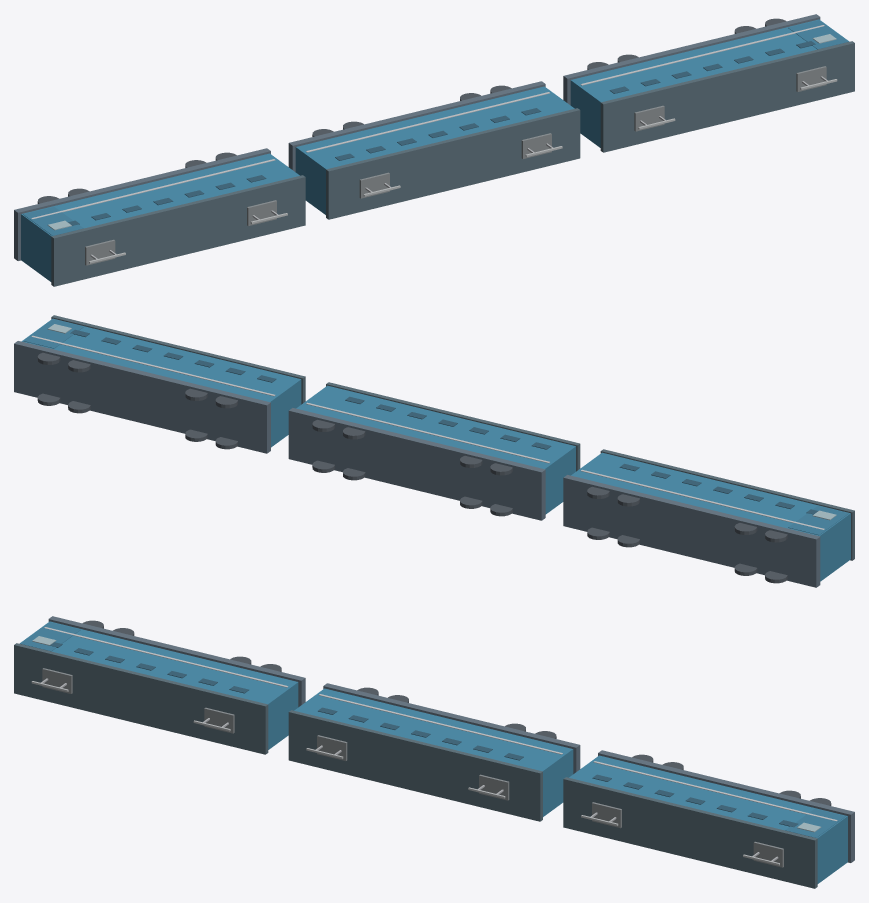
Rendered from 3es5k_exterior.glb.
The picture shows the model from 3 angles, top to bottom: view 1: azimuth 30°, elevation 25°; view 2: azimuth 150°, elevation 25°; view 3: azimuth 330°, elevation 25°; orthographic projection.
Parts seen in each view (by area): view 1: Секция 3 крыша, Секция 1 крыша, Секция 2 крыша, Секция 2 кузов, Секция 1 кузов, Секция 3 кузов, Секция 1 основание, Секция 3 основание, Секция 2 основание, кабина_1, кабина, полоса_3 (+7 smaller); view 2: Секция 1 основание, Секция 2 основание, Секция 3 основание, Секция 2 кузов, Секция 1 кузов, Секция 3 кузов, Секция 1 крыша, Секция 2 крыша, Секция 3 крыша, кабина_1, кабина, полоса_3 (+2 smaller); view 3: Секция 1 крыша, Секция 3 крыша, Секция 2 крыша, Секция 2 кузов, Секция 3 кузов, Секция 1 кузов, Секция 3 основание, Секция 1 основание, Секция 2 основание, кабина_1, кабина, полоса_3 (+7 smaller).
Boxes of the visible parts, left/top/right/bottom form: Секция 3 крыша: left=600, top=41, right=854, bottom=152; Секция 1 крыша: left=51, top=175, right=305, bottom=286; Секция 2 крыша: left=326, top=108, right=580, bottom=219; Секция 2 кузов: left=295, top=86, right=574, bottom=214; Секция 1 кузов: left=21, top=153, right=299, bottom=281; Секция 3 кузов: left=570, top=19, right=848, bottom=147; Секция 1 основание: left=14, top=148, right=270, bottom=260; Секция 3 основание: left=563, top=14, right=820, bottom=105; Секция 2 основание: left=288, top=81, right=545, bottom=171; кабина_1: left=788, top=20, right=848, bottom=49; кабина: left=23, top=206, right=83, bottom=235; полоса_3: left=306, top=92, right=549, bottom=152; Секция 1 основание: left=563, top=475, right=820, bottom=587; Секция 2 основание: left=288, top=408, right=545, bottom=520; Секция 3 основание: left=14, top=341, right=270, bottom=453; Секция 2 кузов: left=296, top=385, right=575, bottom=514; Секция 1 кузов: left=571, top=452, right=850, bottom=581; Секция 3 кузов: left=21, top=318, right=301, bottom=447; Секция 1 крыша: left=600, top=449, right=854, bottom=560; Секция 2 крыша: left=326, top=382, right=580, bottom=471; Секция 3 крыша: left=51, top=315, right=305, bottom=404; кабина_1: left=23, top=319, right=83, bottom=348; кабина: left=788, top=506, right=848, bottom=535; полоса_3: left=306, top=402, right=549, bottom=463; Секция 1 крыша: left=14, top=643, right=268, bottom=754; Секция 3 крыша: left=563, top=777, right=817, bottom=888; Секция 2 крыша: left=288, top=710, right=542, bottom=821; Секция 2 кузов: left=294, top=688, right=573, bottom=816; Секция 3 кузов: left=569, top=755, right=847, bottom=883; Секция 1 кузов: left=20, top=621, right=298, bottom=749; Секция 3 основание: left=598, top=750, right=854, bottom=862; Секция 1 основание: left=48, top=616, right=305, bottom=707; Секция 2 основание: left=323, top=683, right=580, bottom=773; кабина_1: left=785, top=808, right=845, bottom=837; кабина: left=20, top=622, right=80, bottom=651; полоса_3: left=319, top=694, right=562, bottom=754.
Size of the model in its own units: 55.5 by 3.2 by 6.79.
